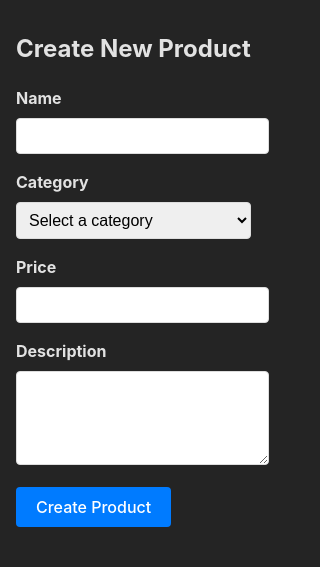
Test: CreateProductForm › should validate price as zero is invalid
In the field labelled "Name": (142, 136) [16,118,269,154], type "Test Product"
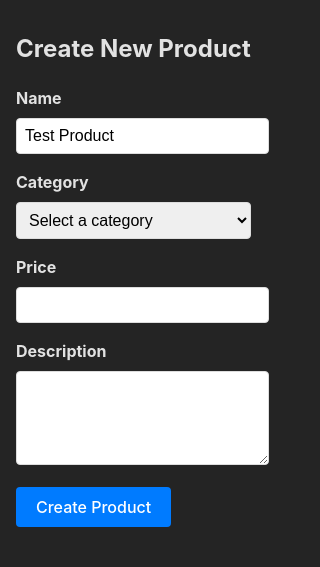
Select "Electronics" in the dropdown labelled "Category": (133, 221) [16,202,251,239]
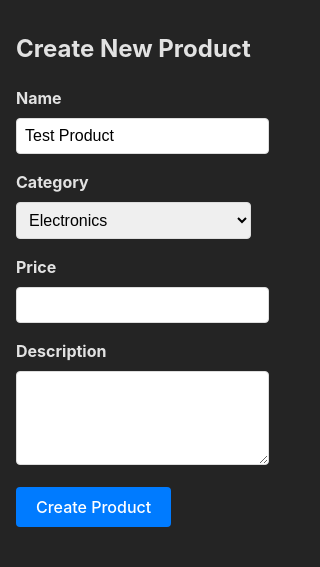
In the number field labelled "Price": (142, 305) [16,287,269,323], type "0"
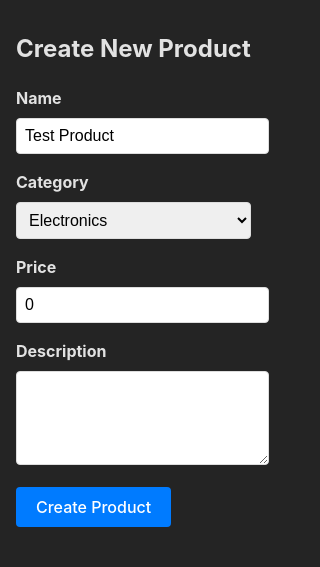
Click the button "Create Product": (94, 507) [16,487,171,527]
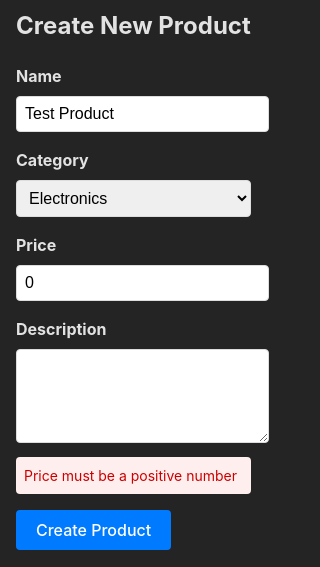
Check: the text "Price must be a positive number" is shown, box [16,457,251,494]
